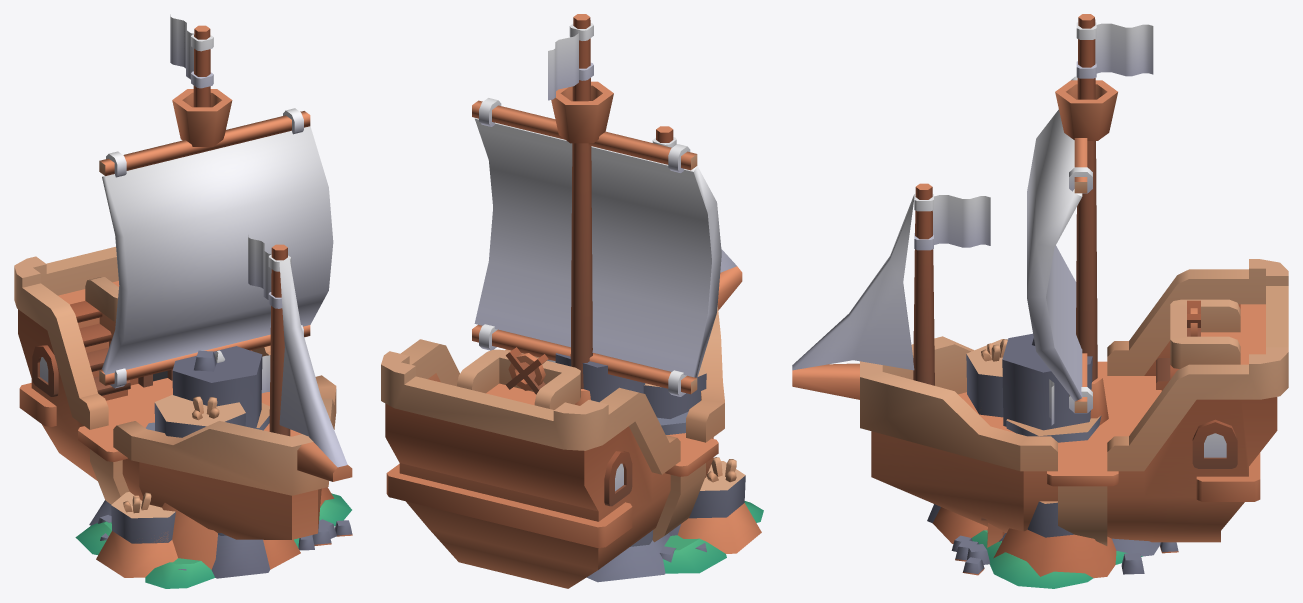
The model's file is kit.glb.
3 views of the same model, side by side, from view 1: azimuth 30°, elevation 25°; view 2: azimuth 150°, elevation 25°; view 3: azimuth 270°, elevation 25° (orthographic). The views are drawn at different scales.
Visible parts, largest first — view 1: ship-small, sail-a, rocks-sand-a, rocks-b, rocks-a, patch-grass, flag-b, flag-a; view 2: ship-small, sail-a, rocks-b, rocks-sand-a, rocks-a, flag-b, patch-grass; view 3: ship-small, sail-a, rocks-sand-a, rocks-b, rocks-a, flag-b, flag-a, patch-grass.
Part boxes in pixels (left/top/right/bottom): ship-small: left=14, top=25, right=352, bottom=539; sail-a: left=99, top=108, right=333, bottom=388; rocks-sand-a: left=96, top=394, right=352, bottom=577; rocks-b: left=89, top=346, right=336, bottom=578; rocks-a: left=98, top=403, right=352, bottom=544; patch-grass: left=75, top=493, right=351, bottom=588; flag-b: left=170, top=14, right=213, bottom=88; flag-a: left=248, top=235, right=291, bottom=308; ship-small: left=381, top=14, right=742, bottom=588; sail-a: left=472, top=98, right=721, bottom=396; rocks-b: left=555, top=353, right=706, bottom=582; rocks-sand-a: left=644, top=365, right=761, bottom=553; rocks-a: left=643, top=373, right=745, bottom=562; flag-b: left=548, top=23, right=593, bottom=100; patch-grass: left=663, top=501, right=763, bottom=573; ship-small: left=792, top=14, right=1288, bottom=545; sail-a: left=1027, top=76, right=1092, bottom=413; rocks-sand-a: left=932, top=339, right=1178, bottom=578; rocks-b: left=927, top=333, right=1160, bottom=574; rocks-a: left=955, top=354, right=1178, bottom=574; flag-b: left=1076, top=22, right=1153, bottom=78; flag-a: left=914, top=193, right=990, bottom=250; patch-grass: left=971, top=530, right=1142, bottom=588.
Bounding box in the file's own units: 5.33 × 10.02 × 8.8.
68 materials, 17 textured.
